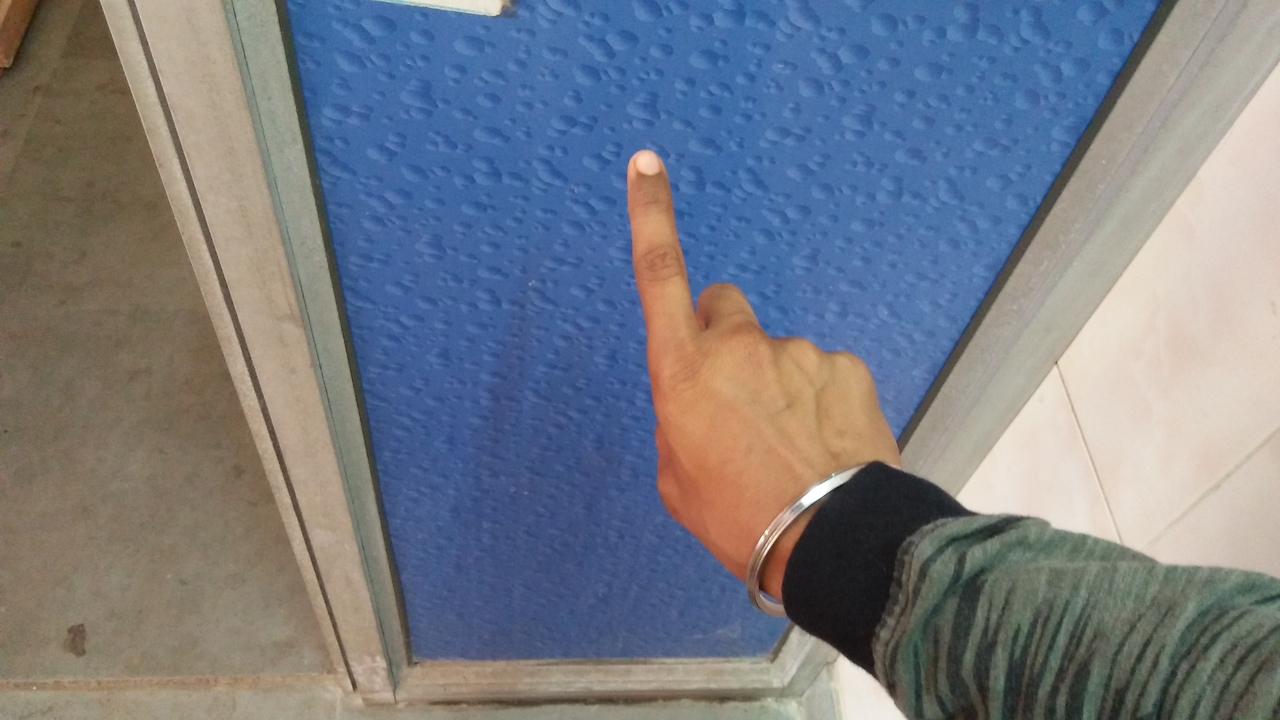fingertip: (616, 140, 682, 192)
